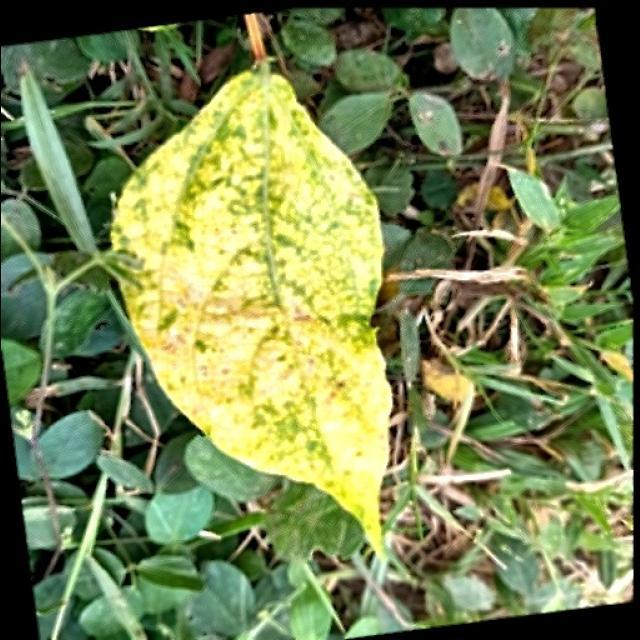leaves: (33, 49, 560, 600)
